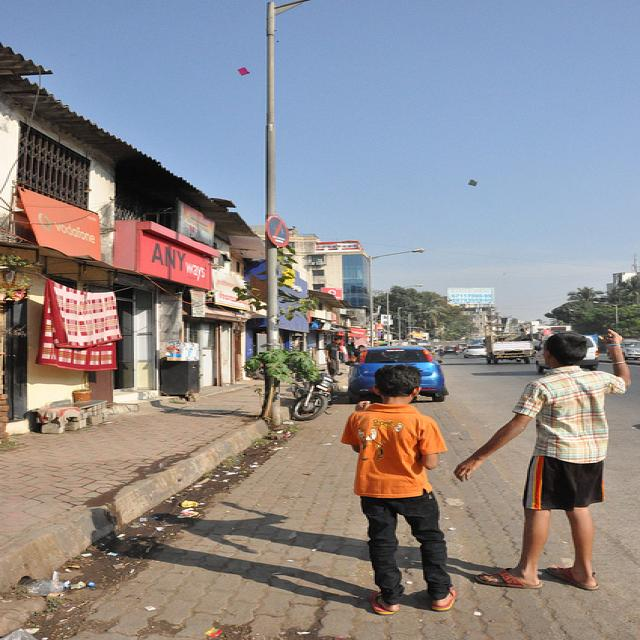motor: (289, 370, 348, 422)
